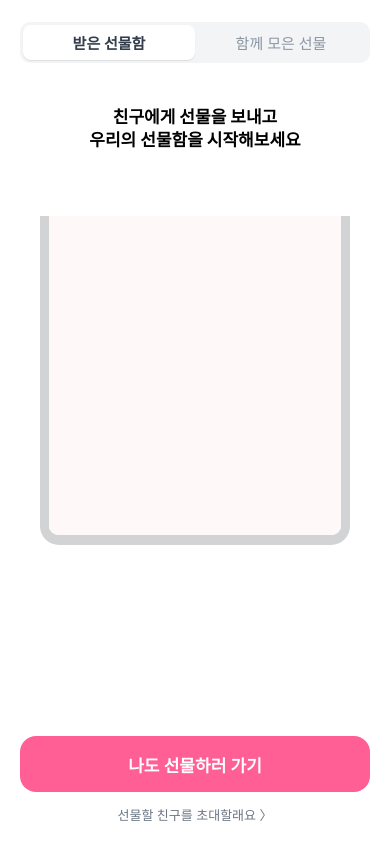
it: 선물 추출 흐름 › 추출이 실패하면 실패 화면으로 넘어간다
This screenshot has width=390, height=844.
Click the text "나도 선물하러 가기". click: (195, 764)
box: top-left (128, 752), bottom-right (262, 776)
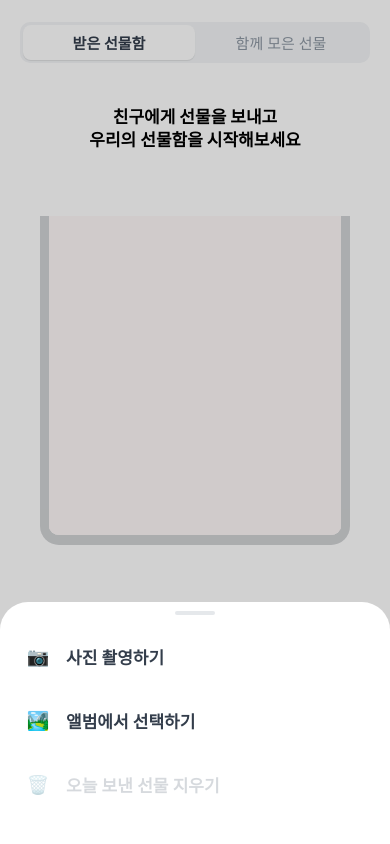
Click the text "앨범에서 선택하기". click: (131, 720)
box: top-left (66, 708), bottom-right (195, 732)
Wait 400 ms
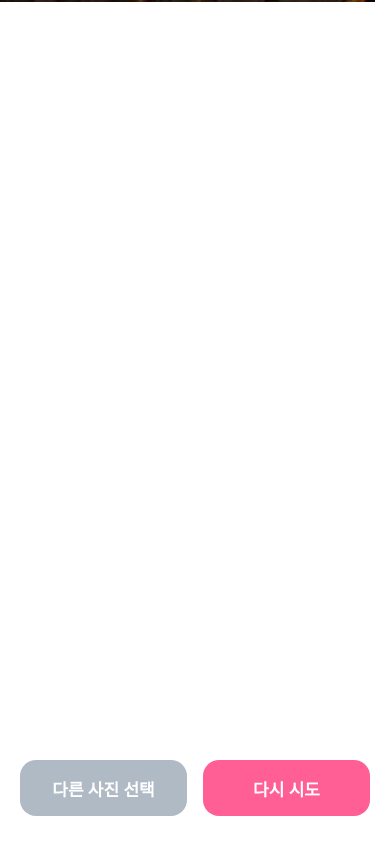
Now the text "다시 시도" is shown, box top-left (253, 776), bottom-right (320, 800)
